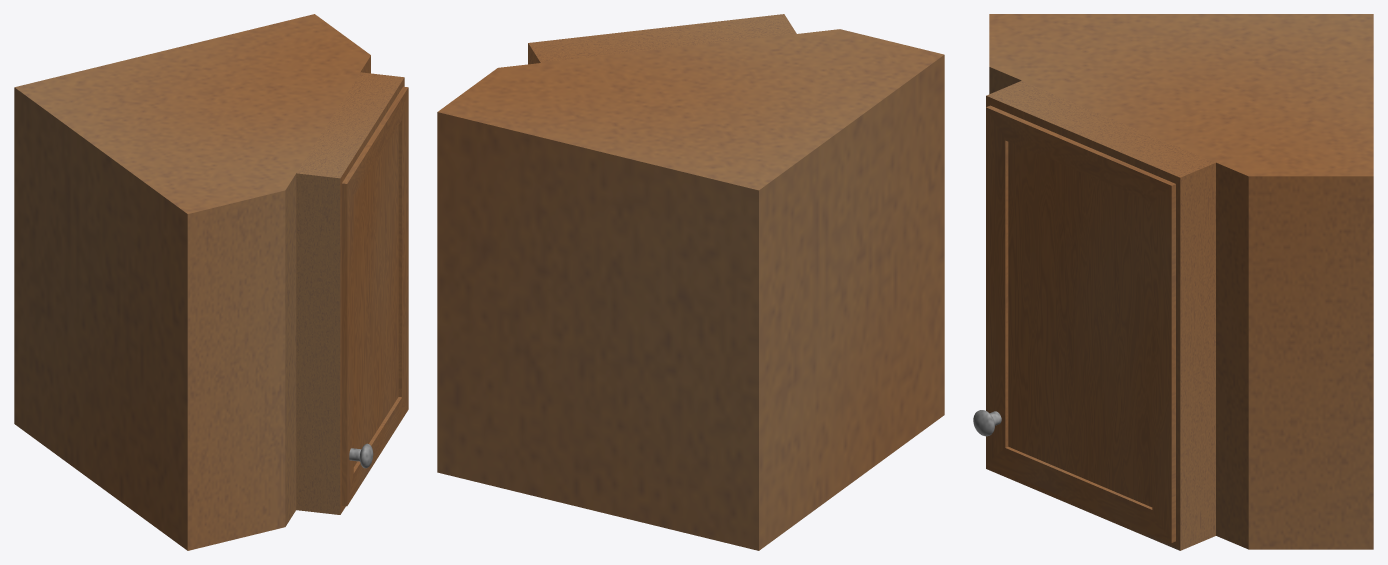
The model's file is TopCabinet_corner-single-left.glb.
The picture shows the model from 3 angles, left to right: view 1: azimuth 30°, elevation 25°; view 2: azimuth 150°, elevation 25°; view 3: azimuth 270°, elevation 25°; orthographic projection. The views are drawn at different scales.
Visible parts, largest first — view 1: mesh; view 2: mesh; view 3: mesh.
Part boxes in pixels (x1,y1,x2,y2): mesh: (14, 14, 408, 550); mesh: (437, 14, 944, 550); mesh: (973, 14, 1373, 550).
Size of the model in its own units: 2.82 by 3 by 2.92.
1 material, 1 textured.
